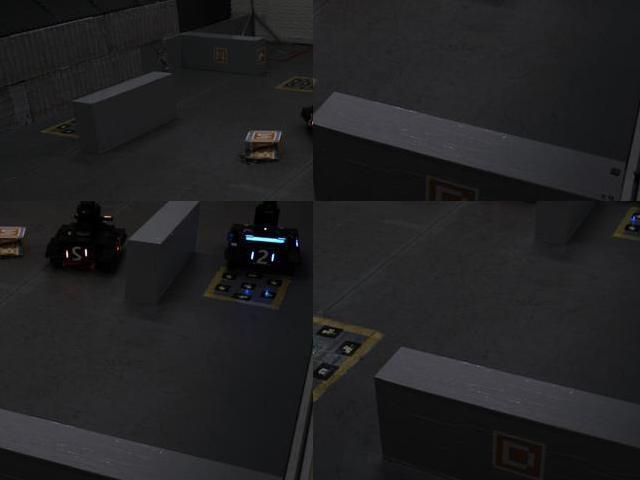armor: (243, 245, 279, 269), (63, 243, 93, 268)
